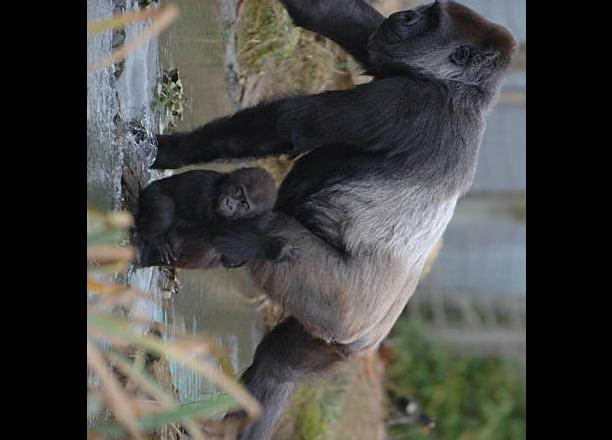gorille_Autres: (135, 0, 526, 440), (126, 158, 277, 263)
